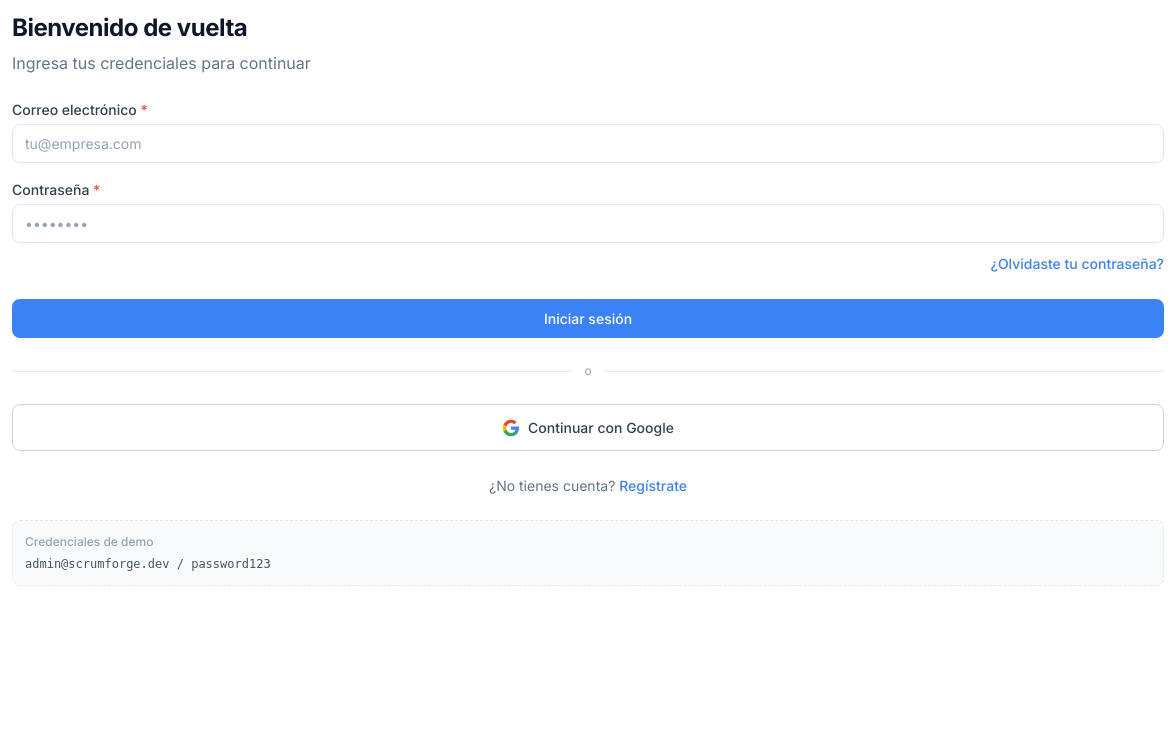
Scenario: LoginForm › shows credential error inline on password field when login fails
Type "user@test.com" into the field labelled "Correo electrónico *" at (588,144), box [12, 124, 1164, 163]
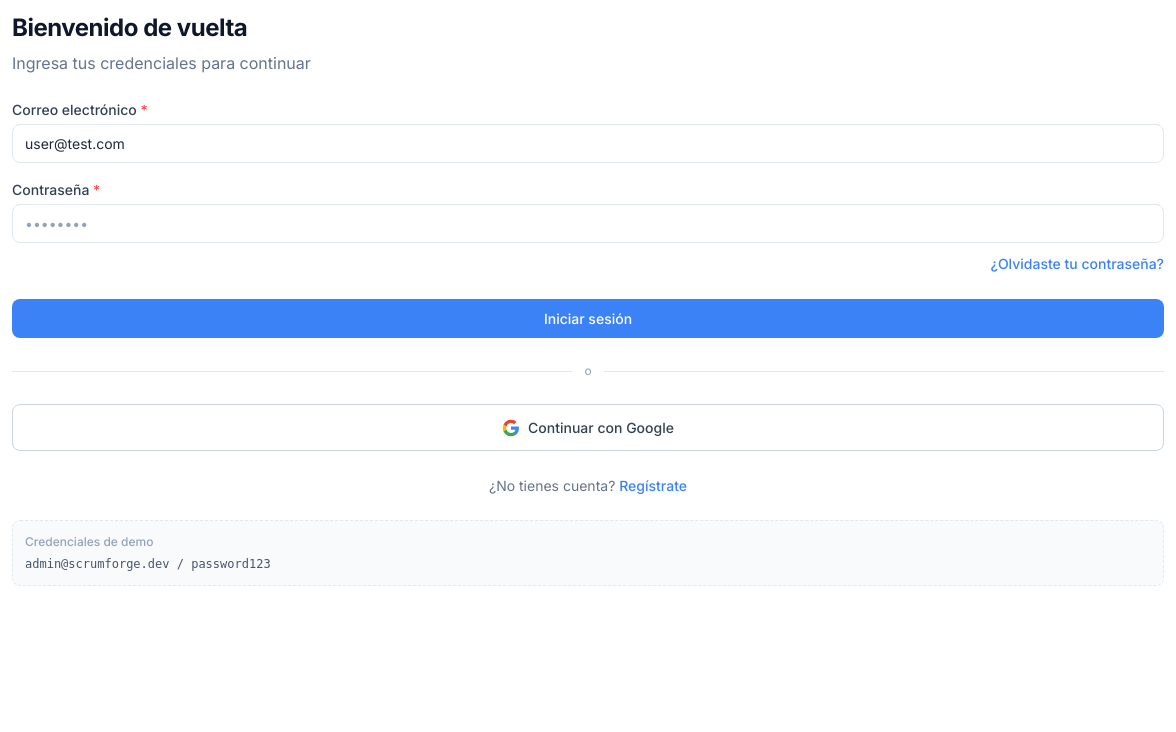
Type "wrongpass" into the password field labelled "Contraseña *" at (588,224), box [12, 204, 1164, 243]
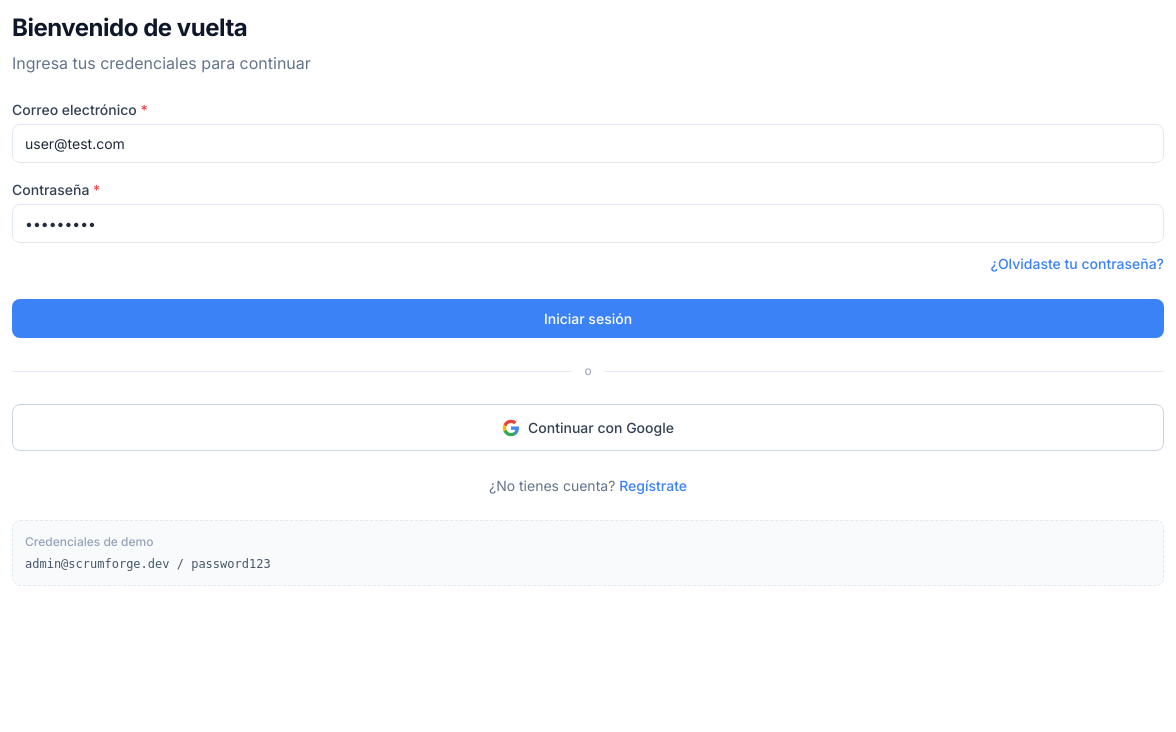
Click the button "Iniciar sesión" at (588,319), box [12, 299, 1164, 338]
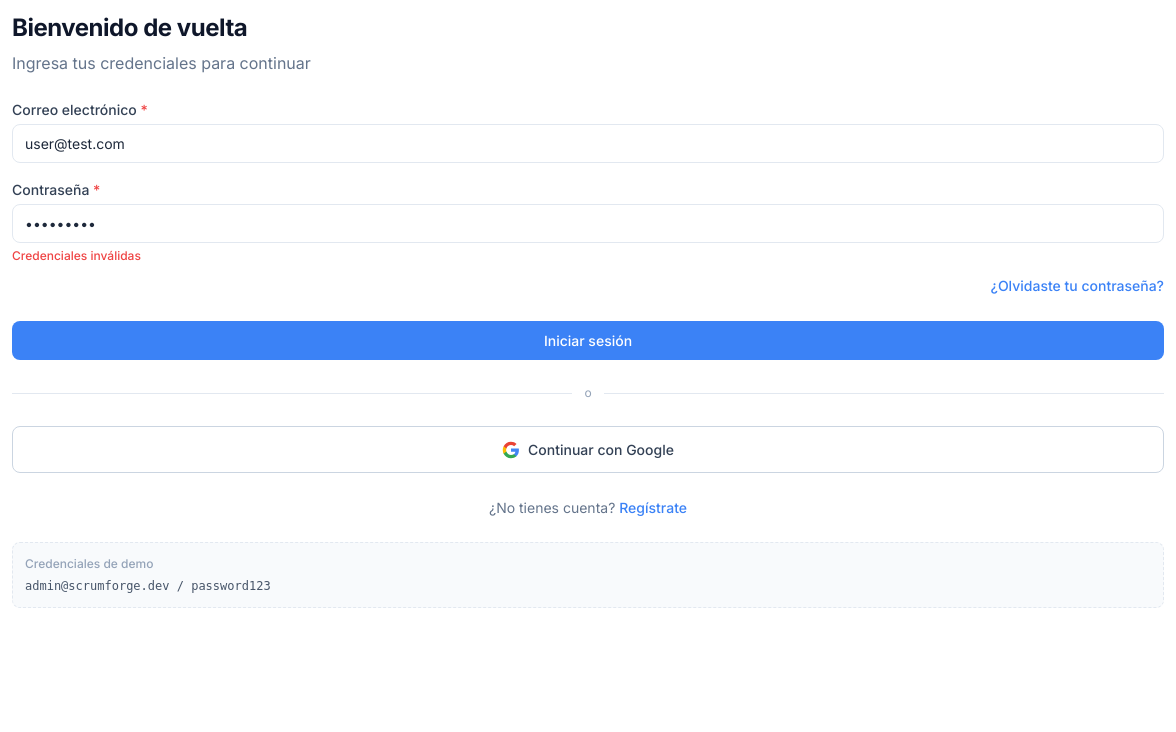
Expected: the text "Credenciales inválidas" is shown, [12, 248, 141, 263]
